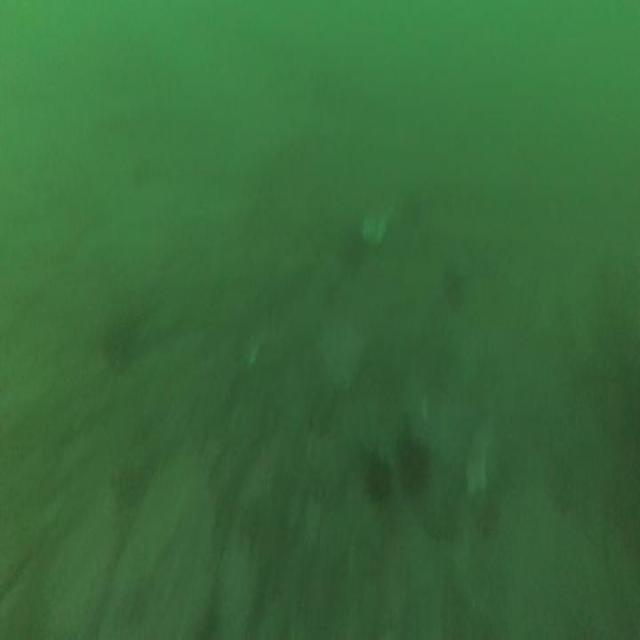echinus: (389, 425, 434, 503), (361, 444, 396, 510)
